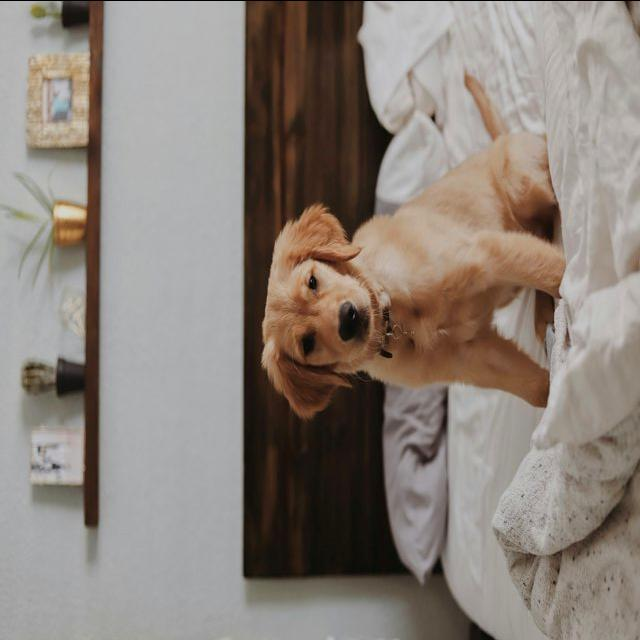retriever: (258, 73, 566, 421)
